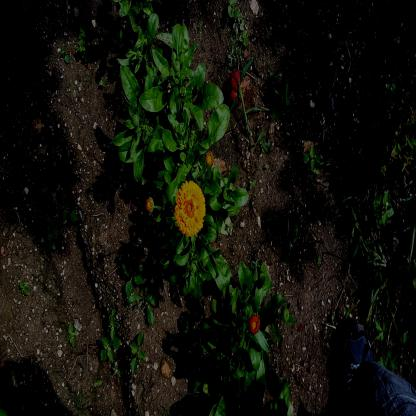marigold: (176, 183, 204, 233)
